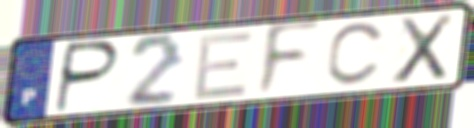2: (125, 31, 191, 112)
C: (323, 19, 389, 89)
E: (190, 28, 256, 102)
F: (253, 17, 324, 102)
P: (51, 38, 123, 115)
X: (389, 11, 457, 87)
